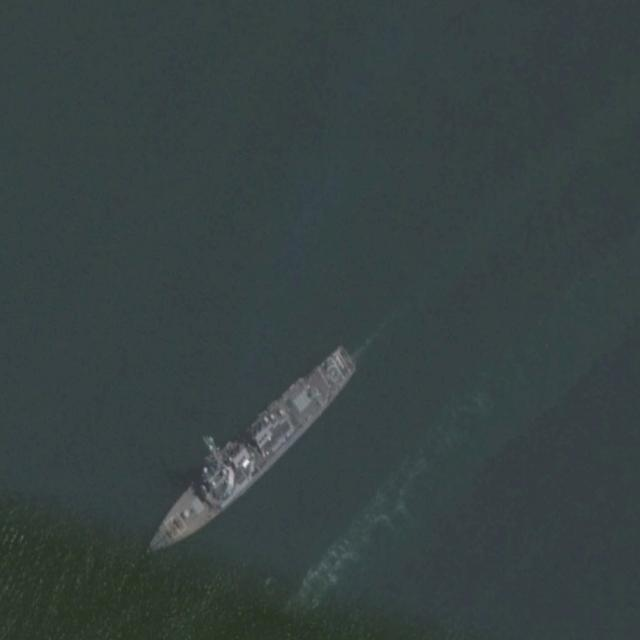Destroyer: (134, 334, 361, 576)
